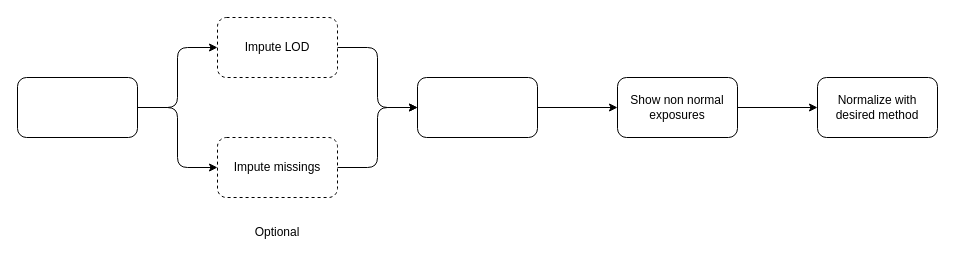
Image size: 955x265. Some labels were removed from this diagram. The shapes that lost their labels are listed below. From the top down, each one's centre as x and y in pixels, then its label:
point (77, 107): Load data
point (477, 107): Check normality
